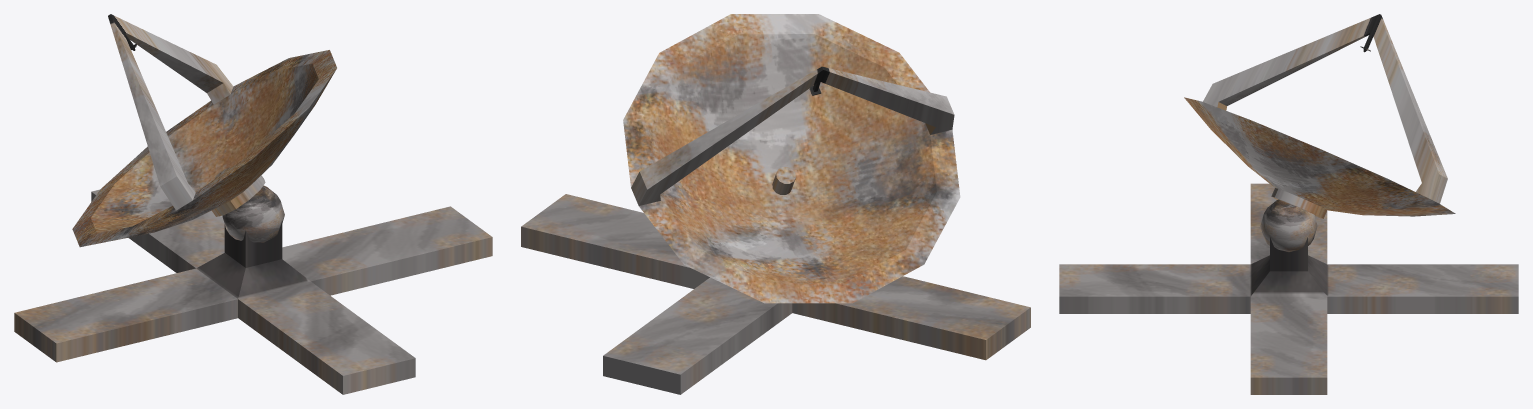
File: torDistDish.fbx
3 renders of one model, left to right at view 1: azimuth 30°, elevation 25°; view 2: azimuth 150°, elevation 25°; view 3: azimuth 270°, elevation 25°, orthographic. The views are drawn at different scales.
Visible parts, largest first — view 1: dishHolder, dishModel; view 2: dishModel, dishHolder; view 3: dishHolder, dishModel.
Boxes of the visible parts, x1,y1,x2,y2 form: dishHolder: (14, 185, 492, 394); dishModel: (72, 14, 336, 247); dishModel: (623, 14, 960, 303); dishHolder: (521, 194, 1030, 394); dishHolder: (1059, 183, 1518, 394); dishModel: (1184, 14, 1455, 218).
Bounding box in the file's own units: 47.24 × 27.55 × 47.24.
1 material, 1 textured.
